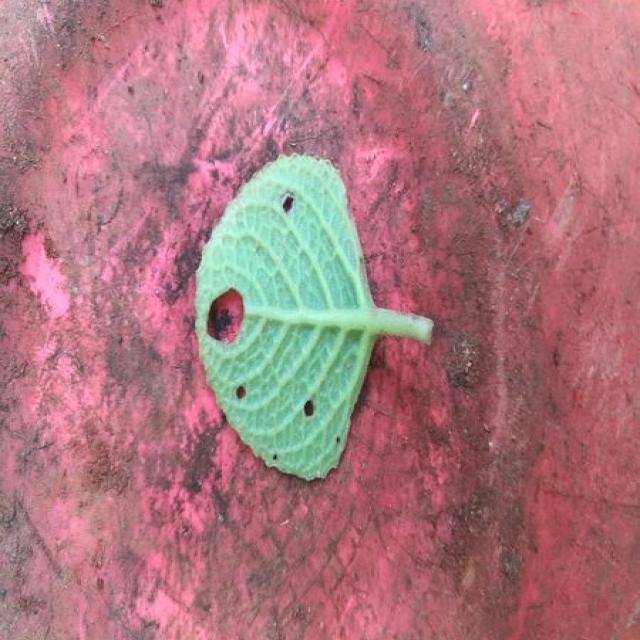doddpathre: (195, 155, 433, 479)
